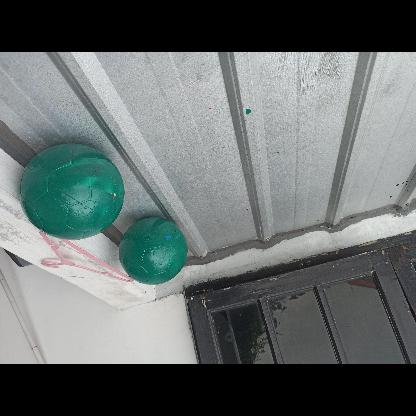green_ball: (21, 140, 125, 244), (120, 218, 188, 286)
